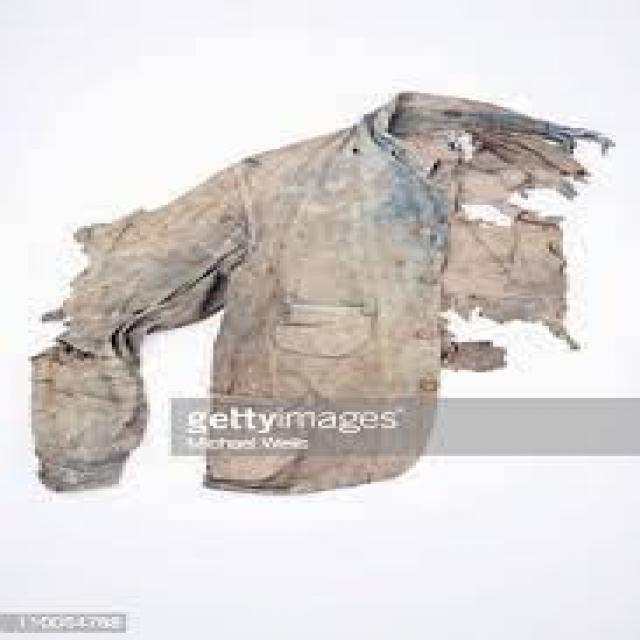Clothes -Biodegradable-: (26, 88, 613, 498)
